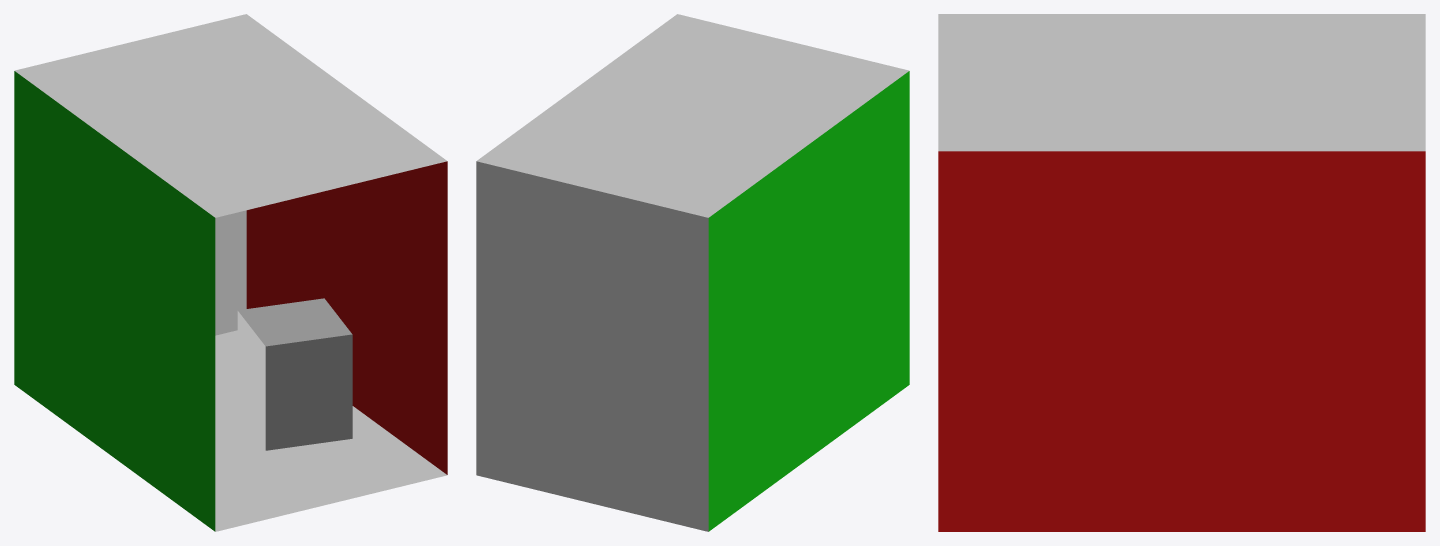
Rendered from cornell-box.obj.
3 renders of one model, left to right at view 1: azimuth 30°, elevation 25°; view 2: azimuth 150°, elevation 25°; view 3: azimuth 270°, elevation 25°, orthographic. The views are drawn at different scales.
Visible parts, largest first — view 1: Box01, Box03; view 2: Box01; view 3: Box01.
Boxes of the visible parts, <box> form: Box01: <box>14,14,447,531</box>; Box03: <box>237,298,352,450</box>; Box01: <box>476,14,909,531</box>; Box01: <box>938,14,1425,531</box>.
Bounding box in the file's own units: 13.25 × 17.12 × 19.88.
